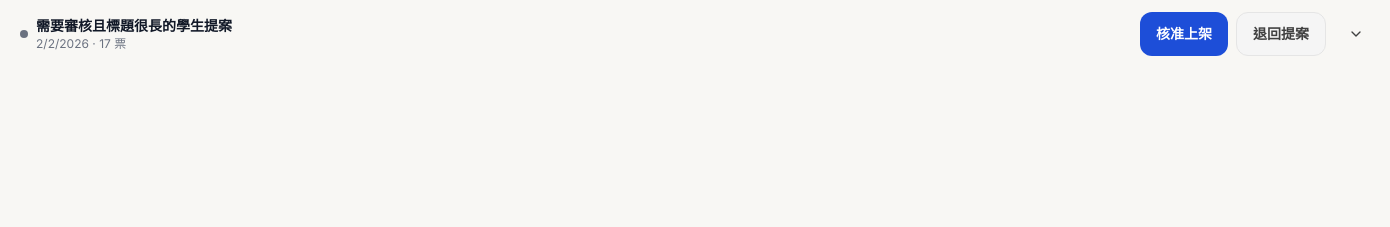
Test: sends rejectProposal with expectedVersion without bubbling navigation when the row action is pressed
Click the button "退回提案" at (1281, 34), box [1236,12,1326,56]
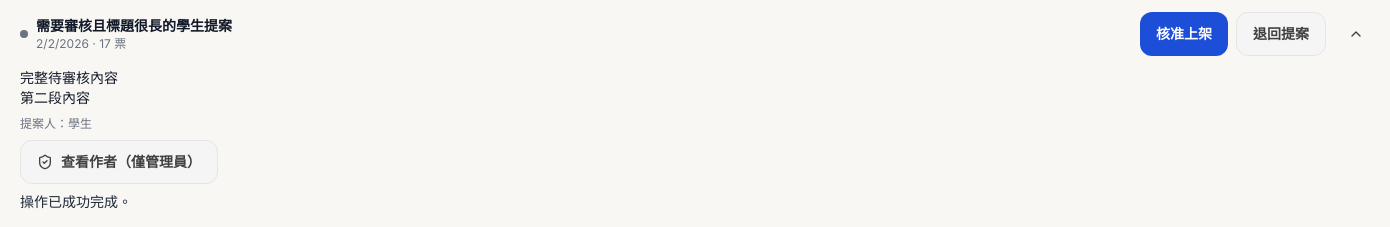
Now the message reads "操作已成功完成。", box [20,193,132,210]
